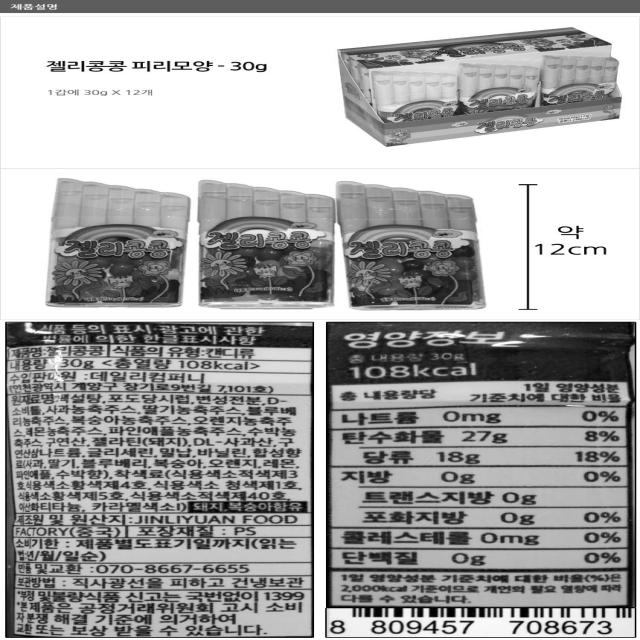Nutrition Label: (320, 317, 640, 609)
